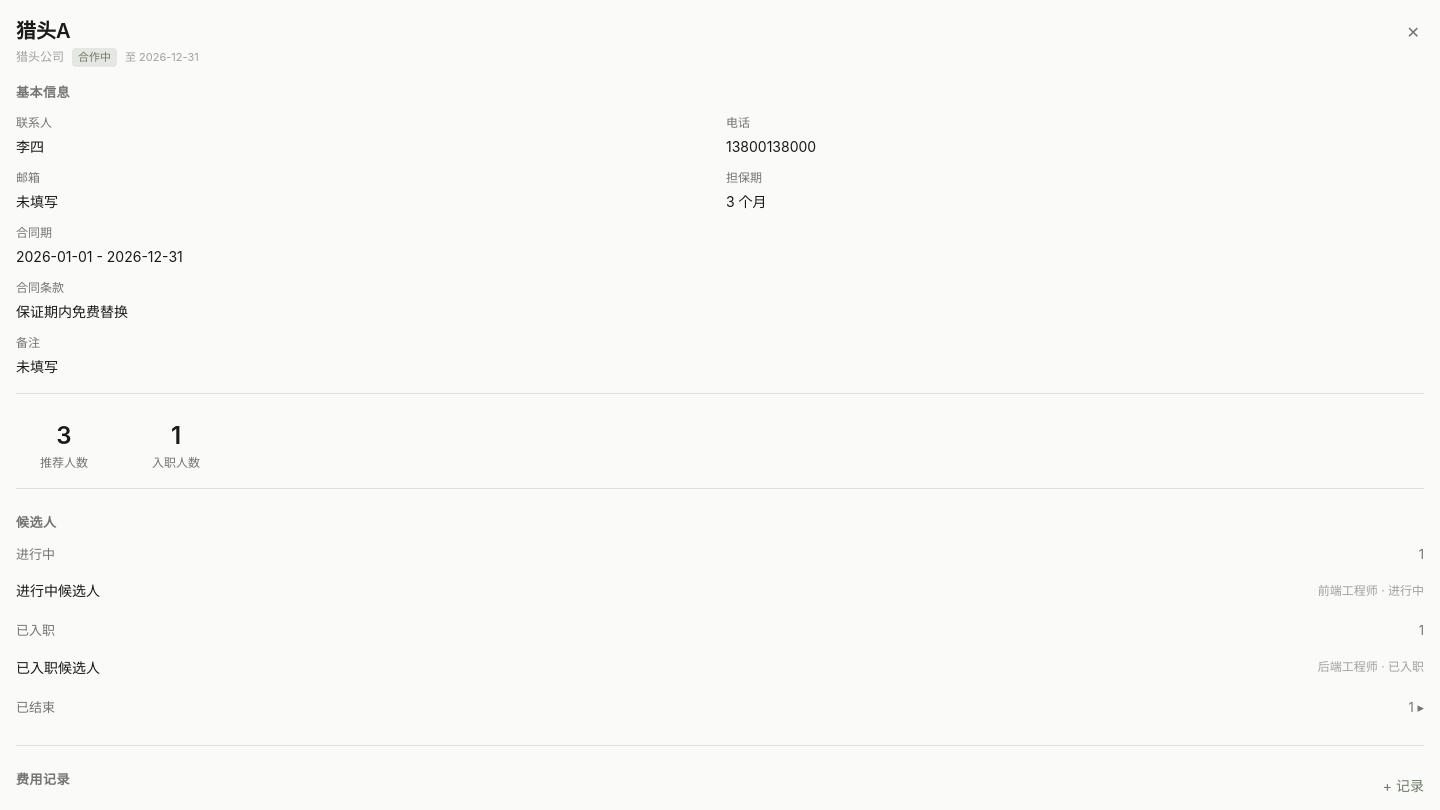
Test case: ChannelPanel › 展示候选人分组和费用累计总额
Click the button with class "candidate-group__header--button" at (36, 706), box [16, 698, 1424, 717]
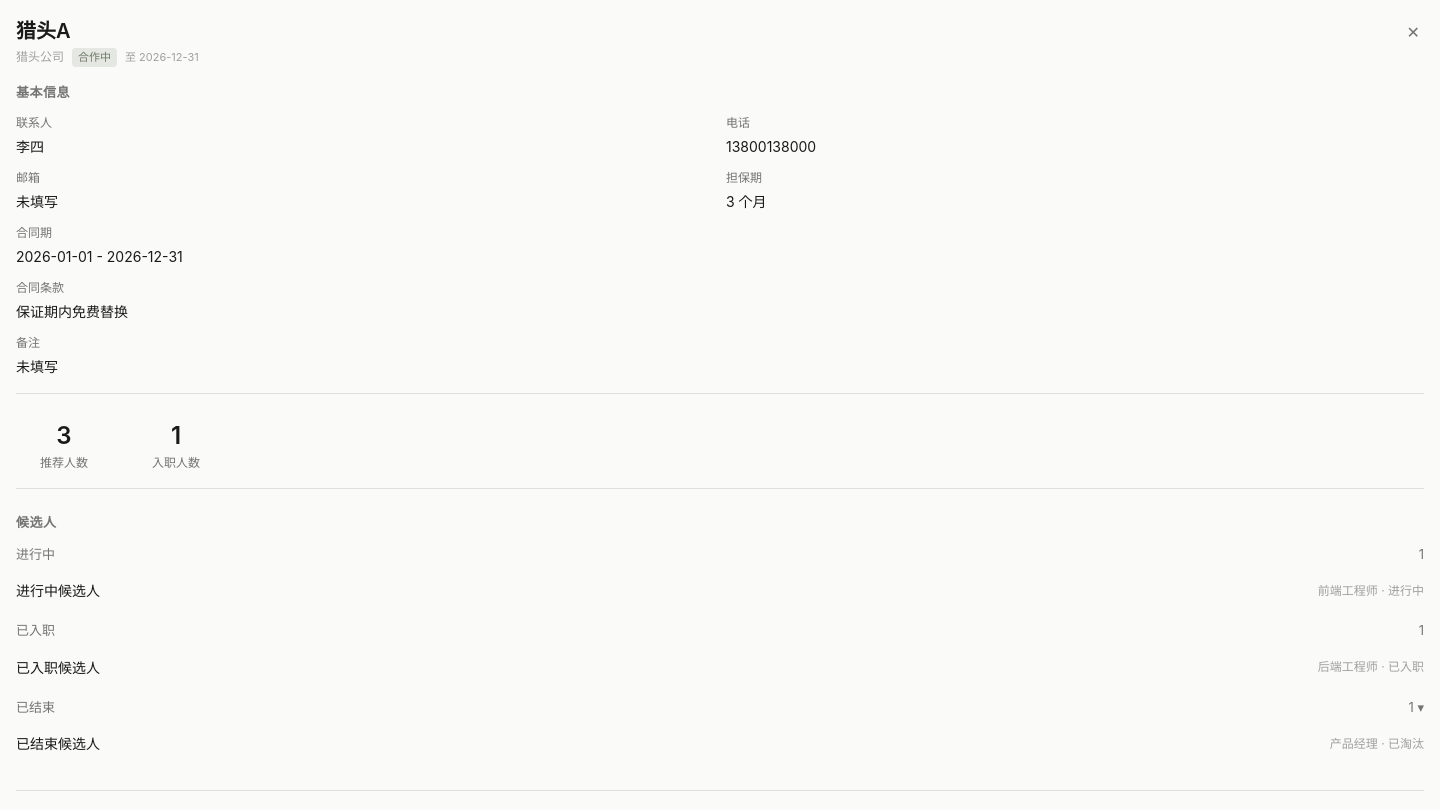
Check: the text "已结束候选人" is shown, box [16, 733, 100, 754]
